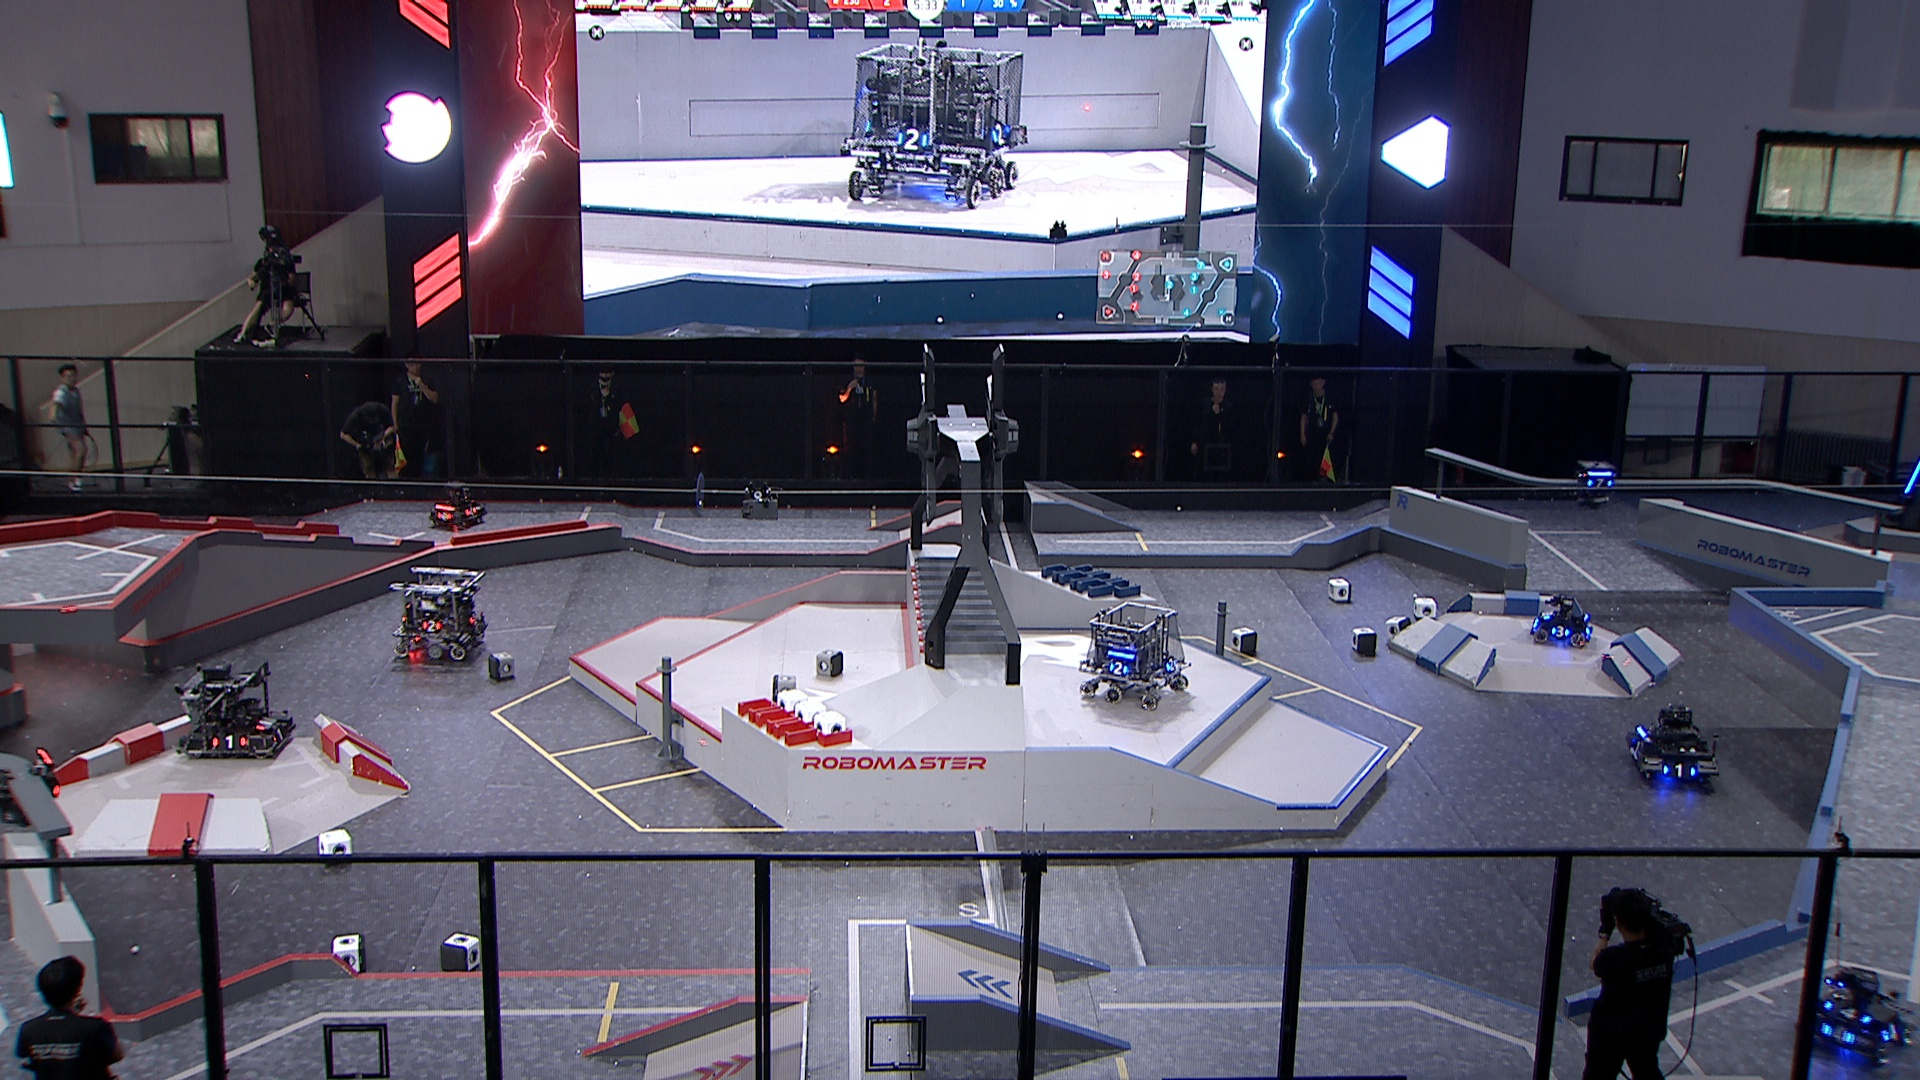armor: (1825, 1000, 1870, 1026), (1821, 1021, 1858, 1048), (1662, 761, 1698, 781), (210, 733, 248, 752), (1904, 460, 1920, 495), (1880, 1021, 1903, 1044), (1106, 661, 1131, 679), (419, 618, 443, 636), (1629, 736, 1647, 757), (1586, 477, 1613, 491), (253, 716, 277, 731), (1549, 622, 1571, 637), (272, 727, 290, 742), (462, 505, 479, 520), (1542, 608, 1557, 622), (436, 512, 454, 522), (467, 613, 480, 626), (1166, 659, 1179, 673)
base: (1879, 450, 1920, 534)
car: (1077, 597, 1195, 712), (1797, 964, 1920, 1065), (175, 659, 295, 760), (390, 564, 489, 659), (1627, 703, 1722, 787), (1532, 589, 1594, 647), (427, 481, 487, 529)
ignore: (840, 40, 1031, 211)
watcher: (1575, 462, 1617, 509)
